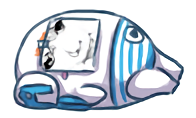dragon: (43, 18, 95, 69)
